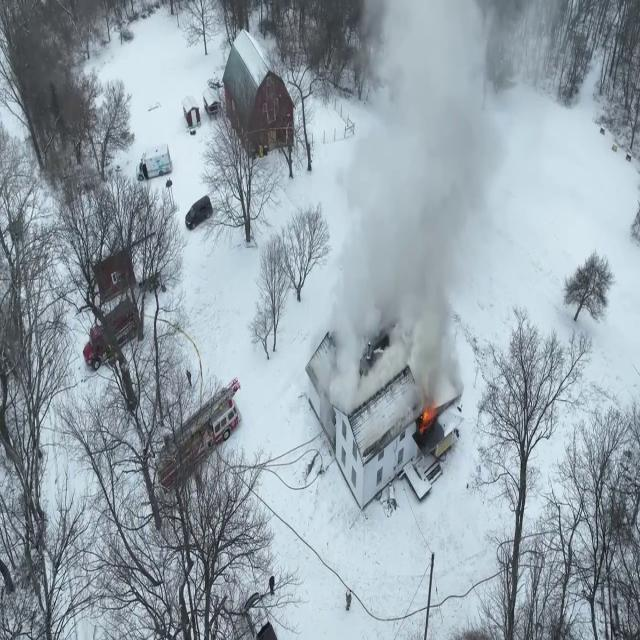Smoke: (302, 1, 582, 436)
